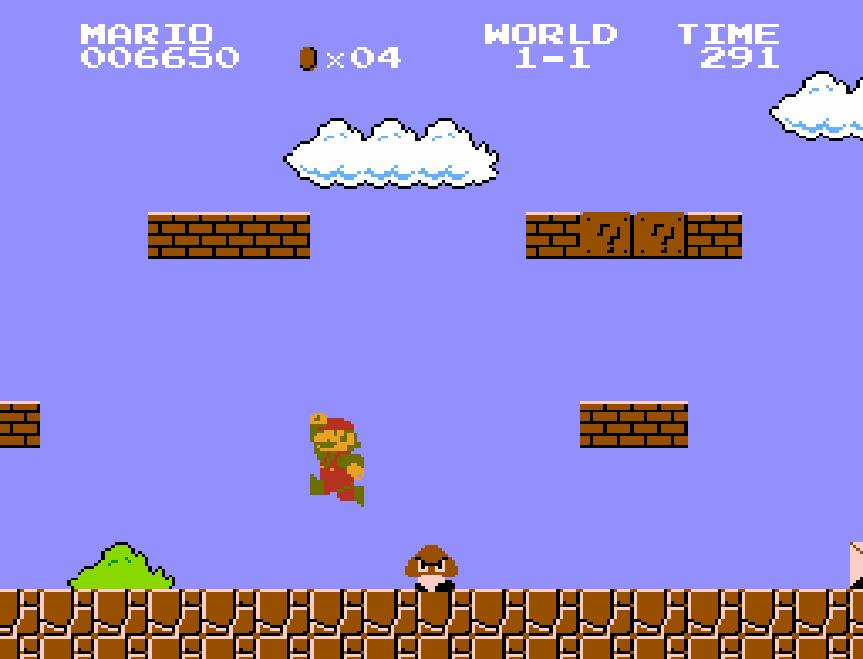big_mario: (308, 410, 366, 508)
